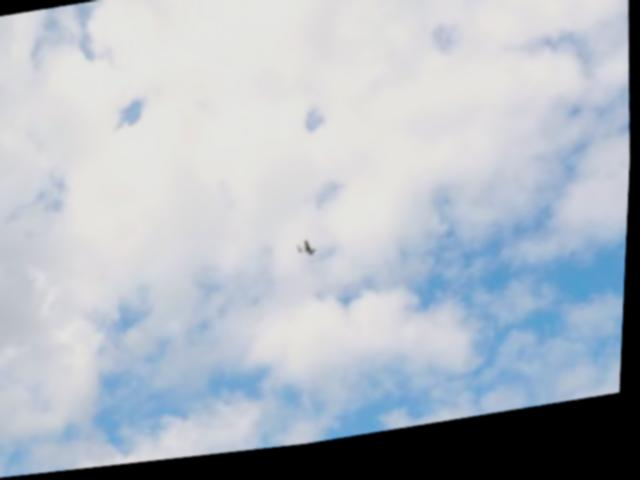uav: (298, 242, 325, 271)
